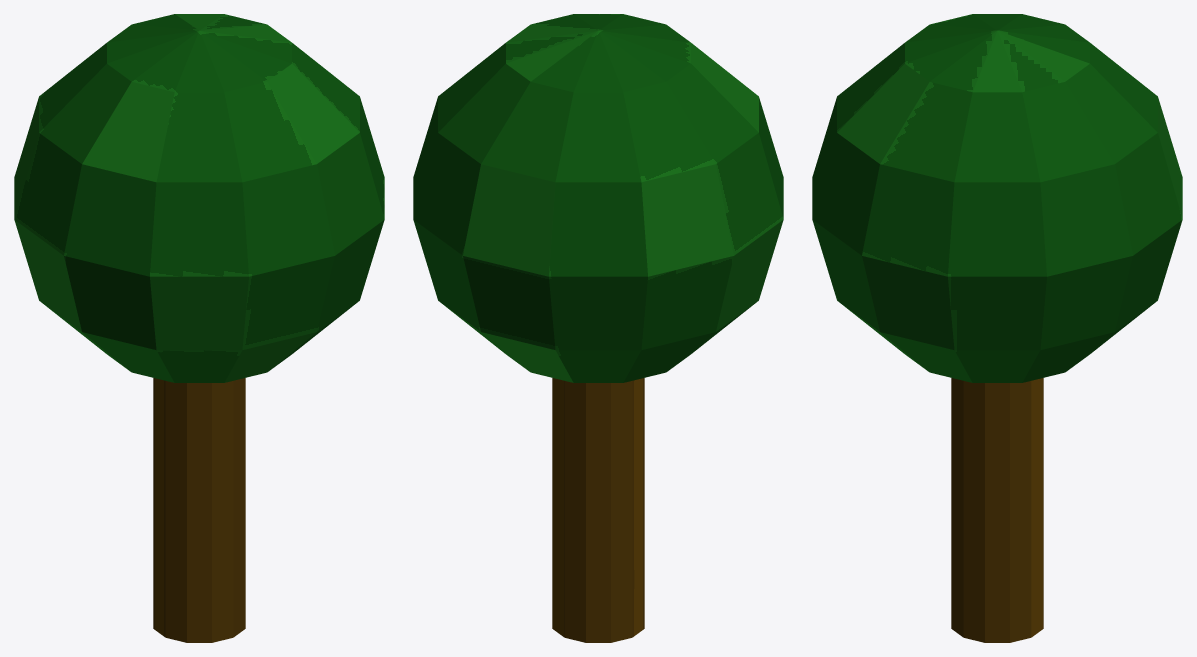
File: tree.gltf
3 renders of one model, left to right at view 1: azimuth 30°, elevation 25°; view 2: azimuth 150°, elevation 25°; view 3: azimuth 270°, elevation 25°, orthographic.
Parts seen in each view (by area): view 1: sphere; view 2: sphere; view 3: sphere.
Boxes of the visible parts, x1,y1,x2,y2 form: sphere: (14, 14, 384, 642); sphere: (413, 14, 783, 642); sphere: (812, 14, 1182, 642).
Size of the model in its own units: 40 by 70.62 by 40.
Materials: 1 (1 with a texture image).
